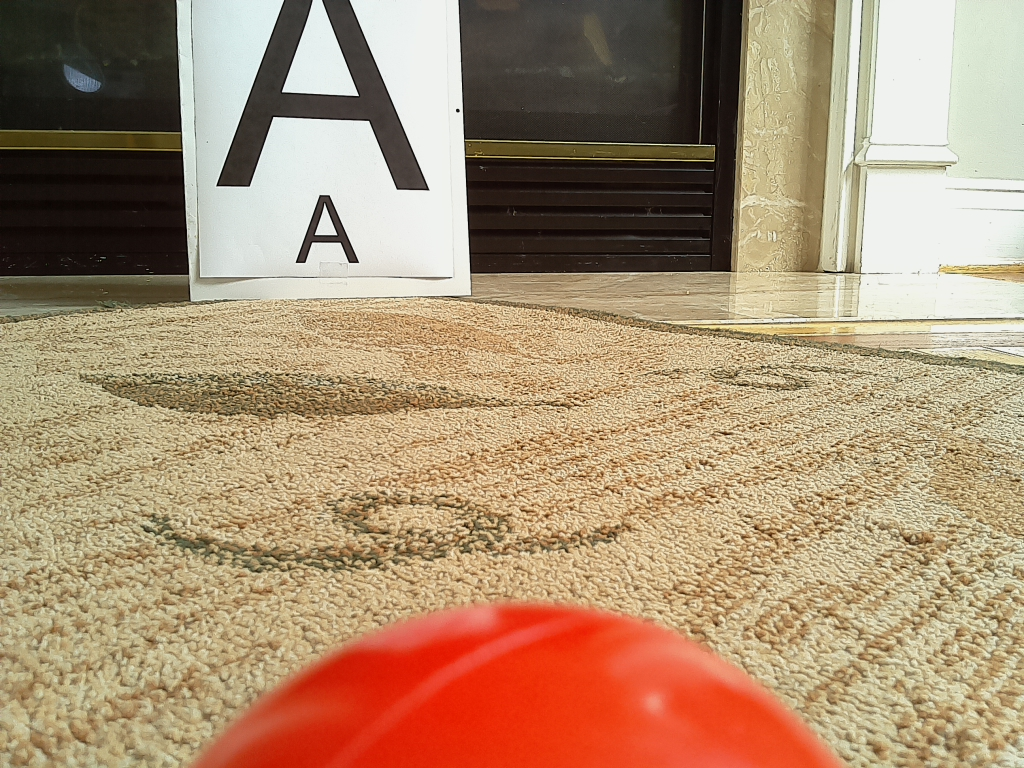letter: (216, 1, 434, 189)
